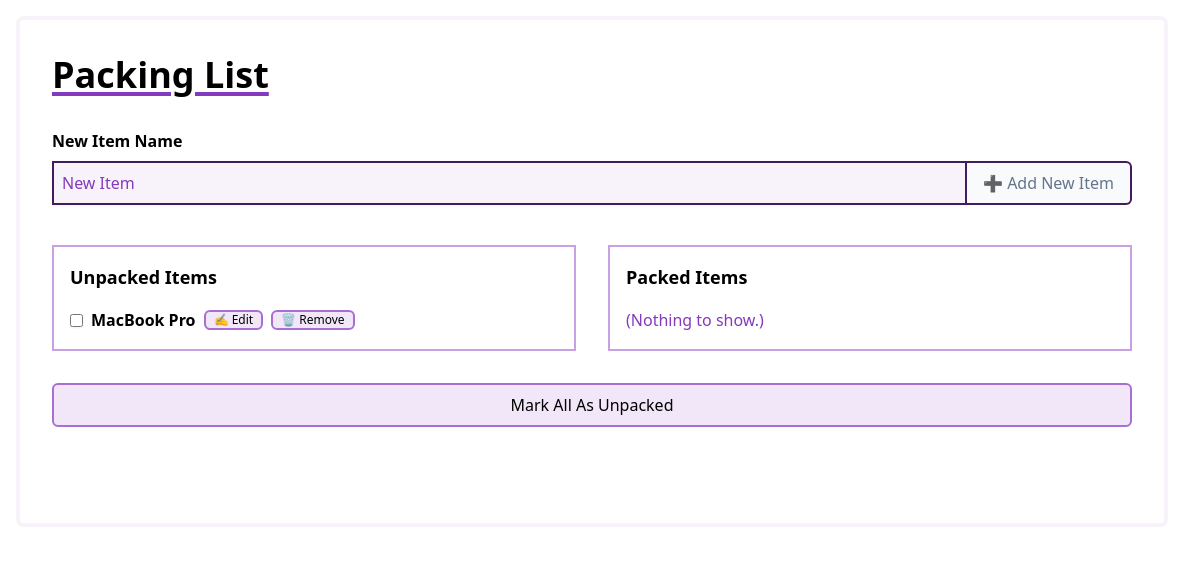
removes an item when the remove button is clicked
Type "iPad Pro" into the search field labelled "New Item Name".
click(510, 183); type("iPad Pro")  # box [52,161,967,205]
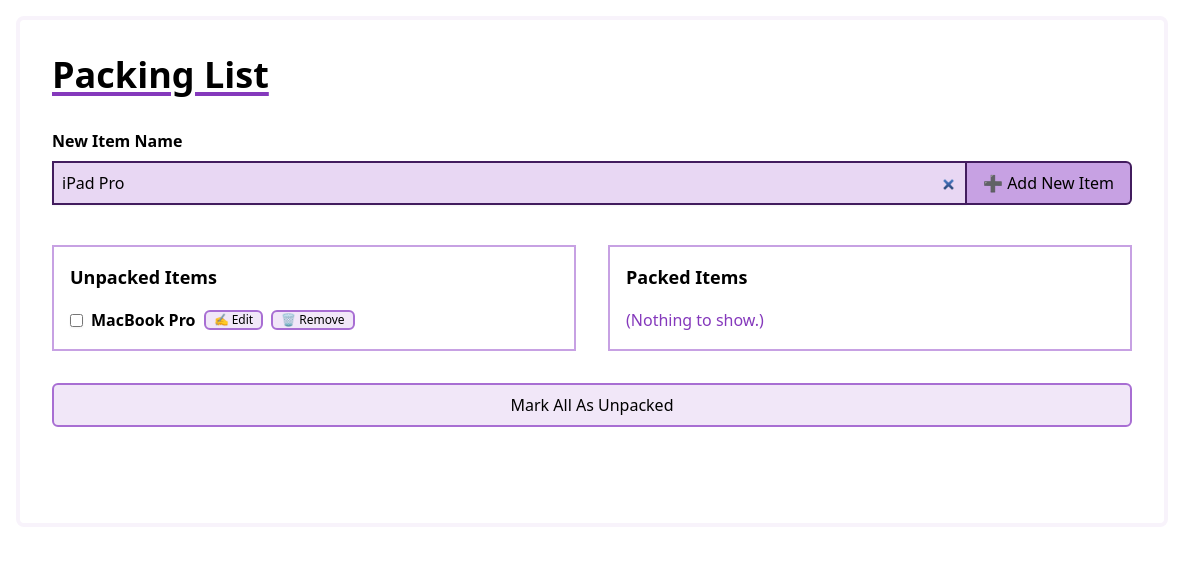
Click the button "➕ Add New Item".
click(1050, 183)  # box [967,161,1132,205]
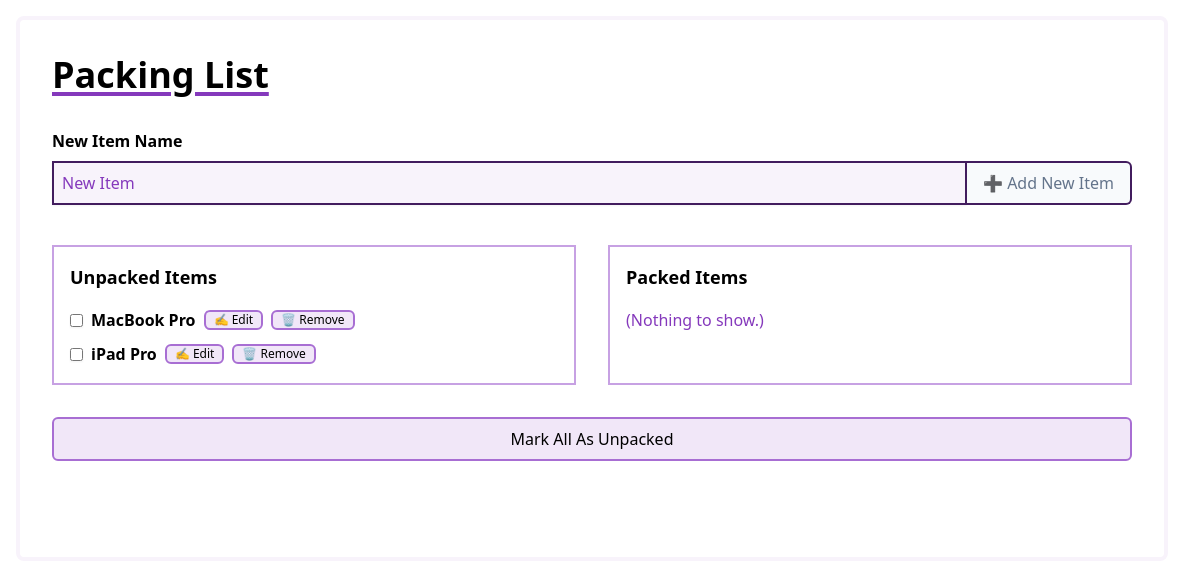
Click the button with aria-label "Remove iPad Pro".
click(274, 354)  # box [232,344,316,364]
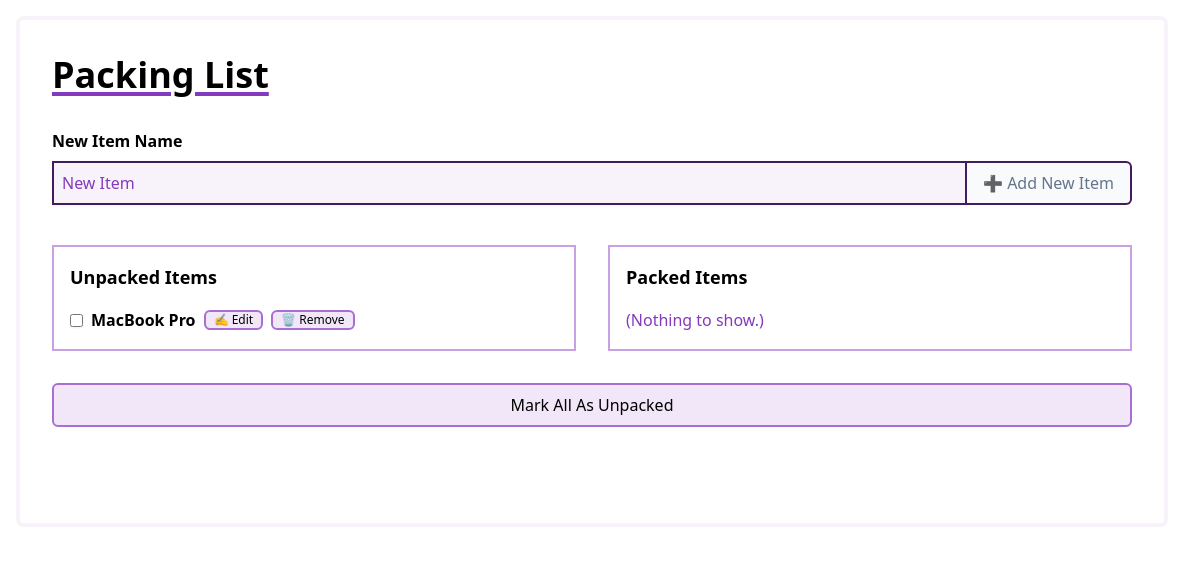
Expected: the label labelled "iPad Pro" is gone
